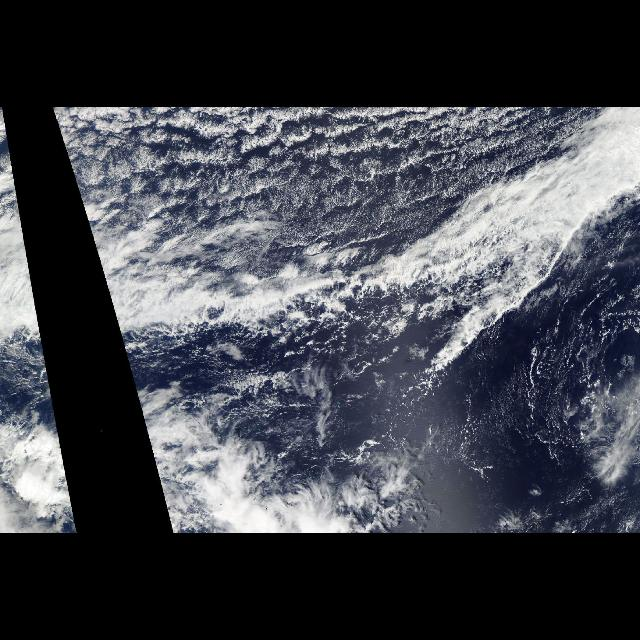Fish: (167, 156, 618, 348)
Gravel: (514, 265, 626, 463)
Sugar: (52, 108, 490, 252), (441, 312, 609, 522), (11, 151, 27, 247)
